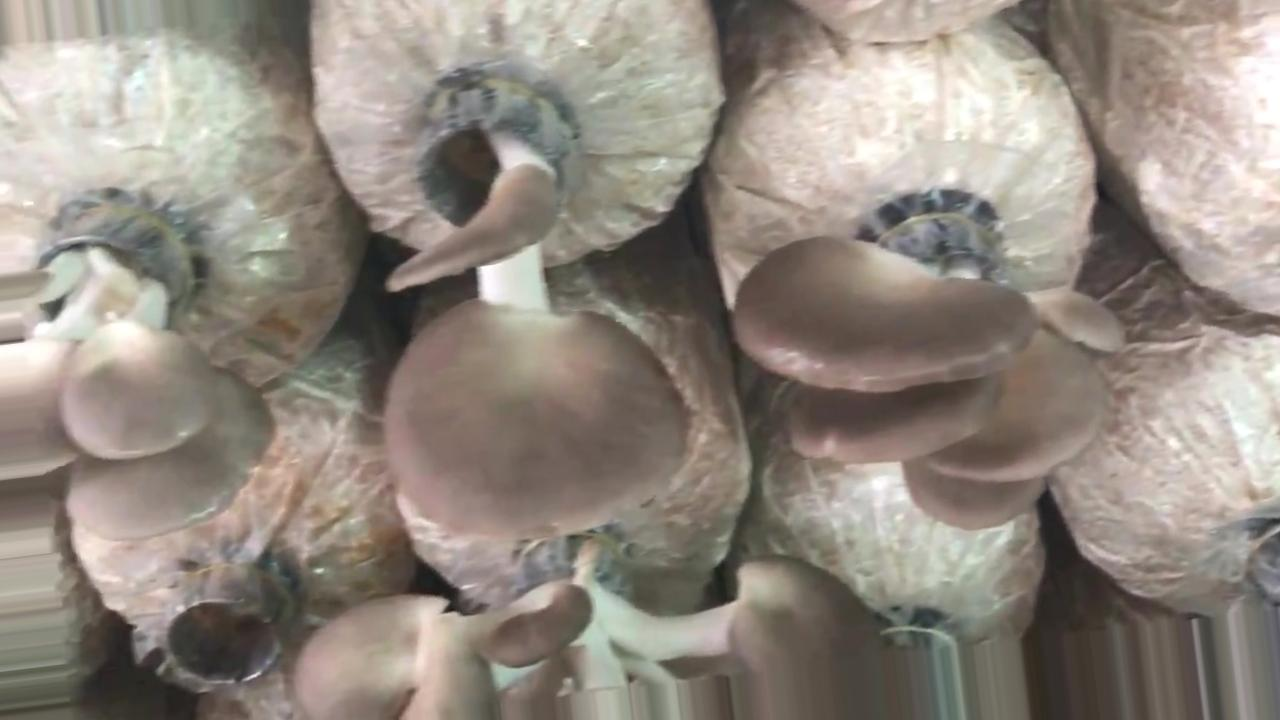nam: (377, 62, 698, 542), (731, 188, 1136, 534), (295, 548, 889, 717), (2, 192, 280, 549)
